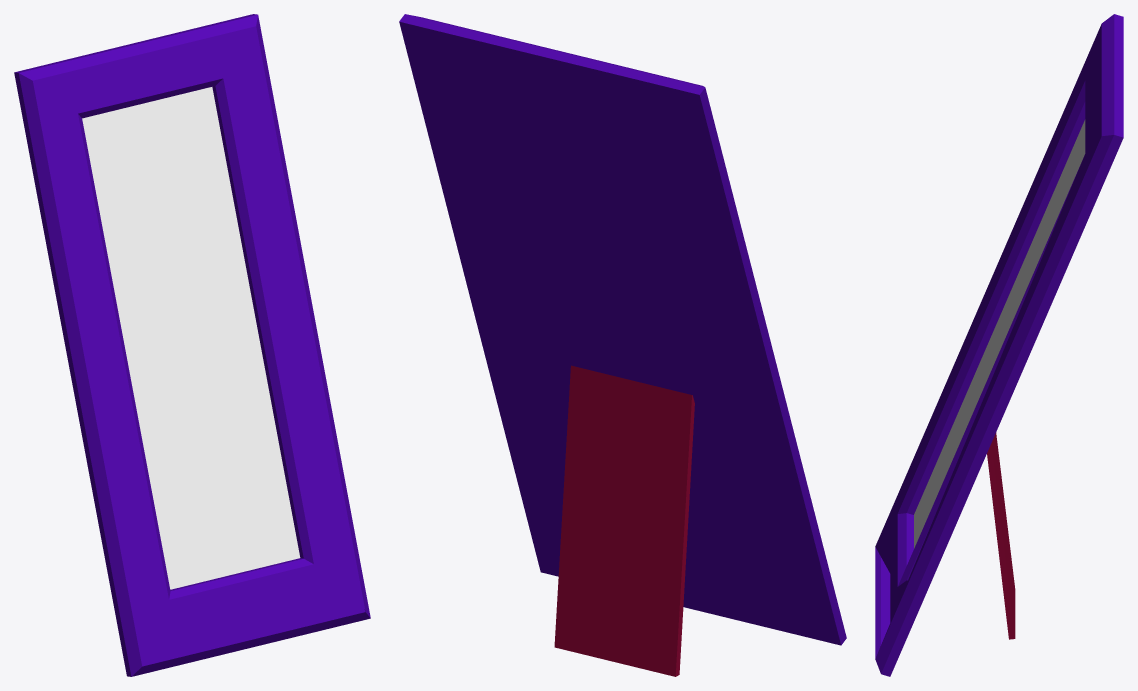
File: Mirror Remodel.obj
3 renders of one model, left to right at view 1: azimuth 30°, elevation 25°; view 2: azimuth 150°, elevation 25°; view 3: azimuth 270°, elevation 25°, orthographic. The views are drawn at different scales.
Visible parts, largest first — view 1: Mirror; view 2: Mirror, pCube2 Mirror; view 3: Mirror, pCube2 Mirror.
Boxes of the visible parts, x1,y1,x2,y2 form: Mirror: (14, 14, 370, 676); Mirror: (399, 14, 846, 645); pCube2 Mirror: (554, 365, 694, 676); Mirror: (875, 14, 1123, 676); pCube2 Mirror: (987, 432, 1015, 639).
Size of the model in its own units: 7.5 by 15.69 by 6.52.
